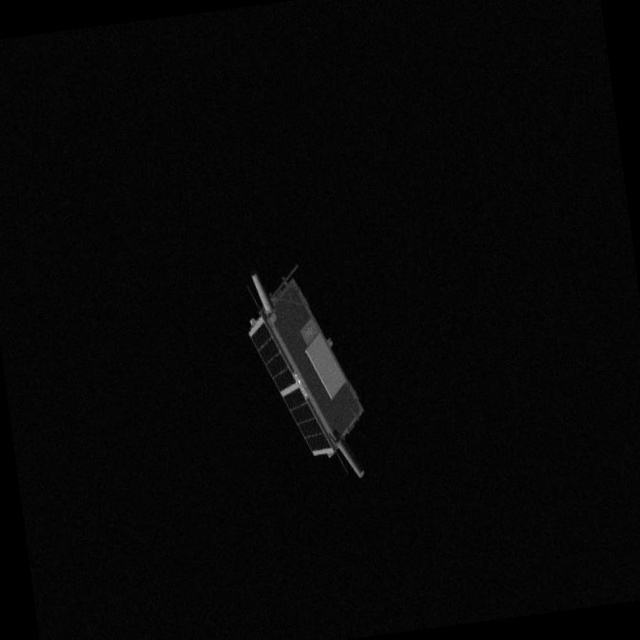satellite: (228, 249, 384, 504)
